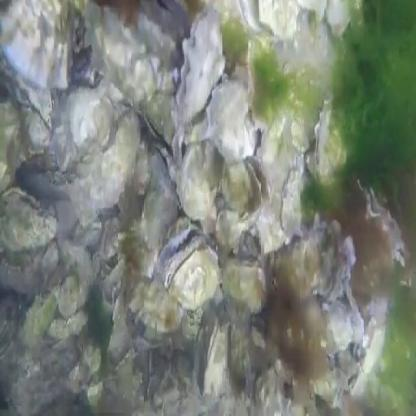Oyster- Indeterminate: (177, 7, 224, 125), (359, 180, 410, 268), (0, 188, 56, 254), (314, 99, 350, 178), (220, 258, 268, 313), (353, 320, 386, 395), (204, 321, 231, 395), (141, 91, 176, 145)
Oyster-Closed: (71, 113, 141, 228), (0, 0, 75, 88), (55, 88, 117, 169), (177, 143, 225, 217)
Oyster-Open: (160, 220, 220, 311), (125, 263, 187, 344), (120, 0, 184, 56), (221, 158, 269, 215), (241, 0, 298, 42)
